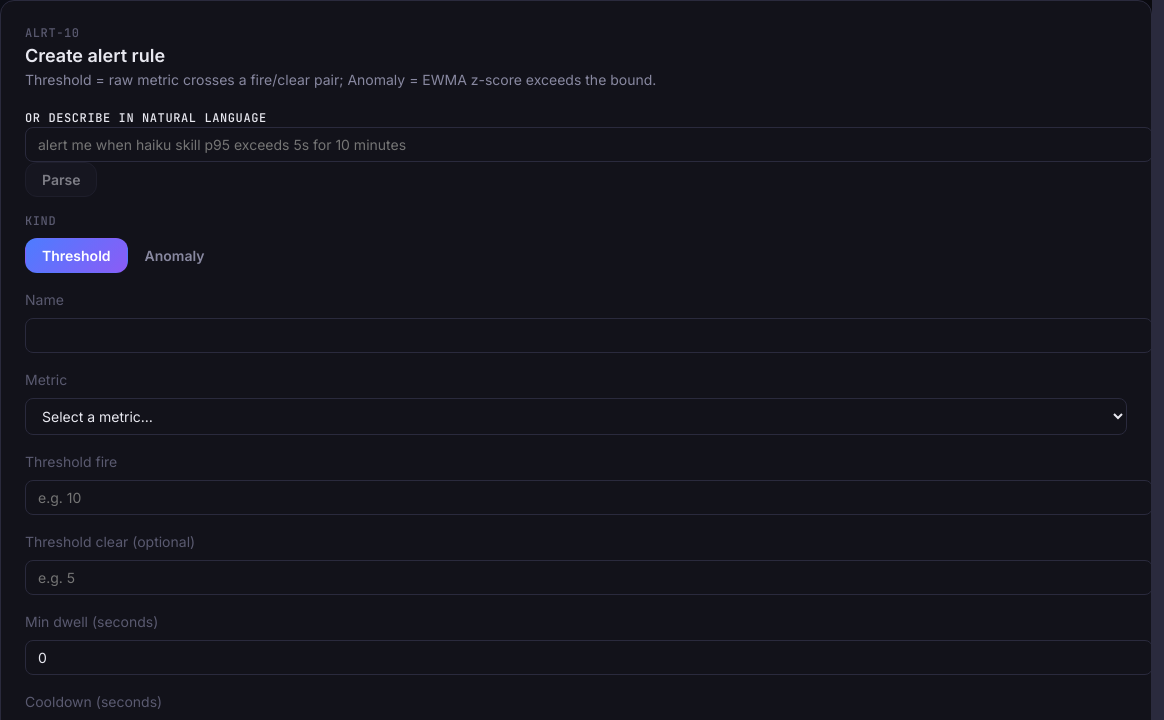
AlertRuleForm — TDBT-03 (Phase 27 Plan 27-08): AlertNlInput 503 retry UX › TDBT-03: Retry button is disabled while m.isPending (DoS guard)
Type "alert me when cost is too high" into the field labelled "Or describe in natural language" at coordinates (588, 144), box left=25, top=127, right=1152, bottom=162
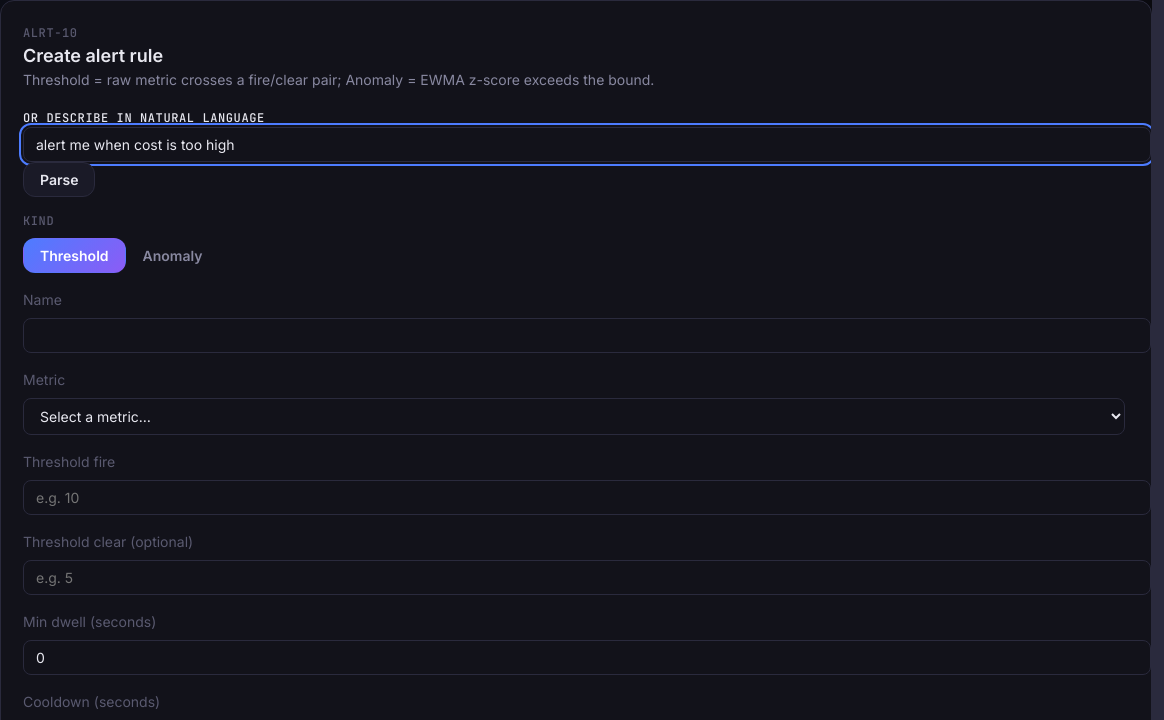
Click the button "Parse" at coordinates (59, 179), box left=23, top=162, right=96, bottom=197
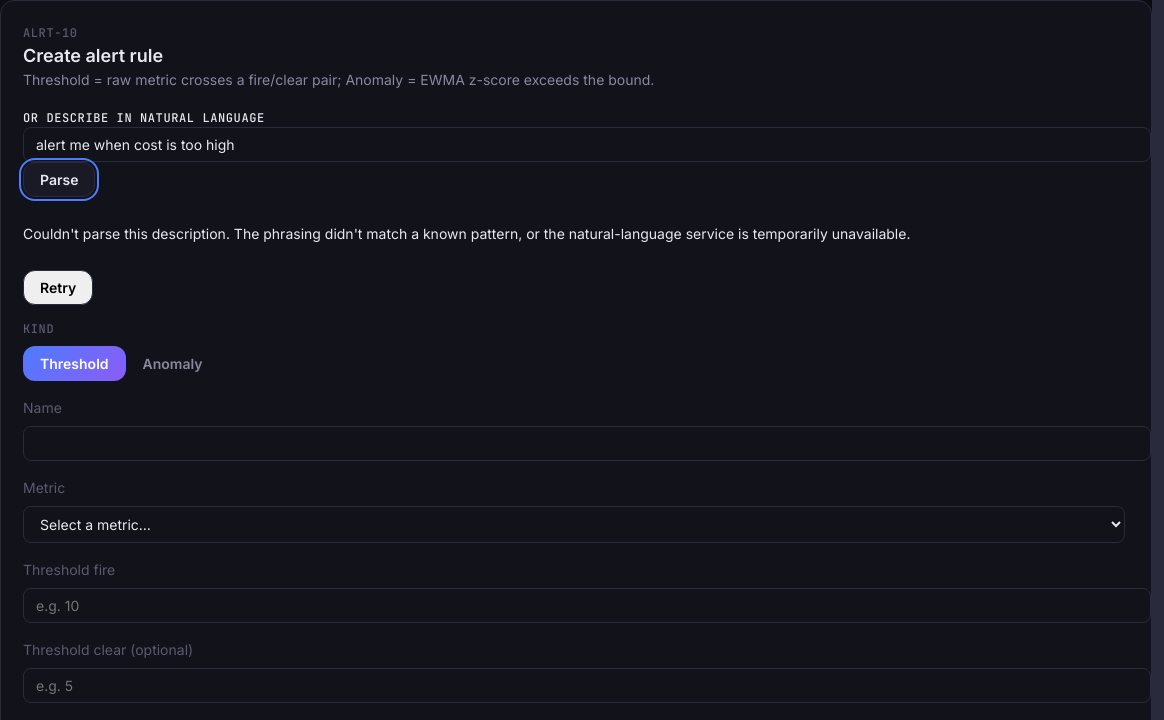
Expected: the button with test id "alert-nl-retry" is enabled
Expected: the button with test id "alert-nl-retry" reads "Retry"
# Click Retry — second call is held open, m.isPending flips to true.
Click the button with test id "alert-nl-retry" at coordinates (58, 287), box left=23, top=270, right=93, bottom=305
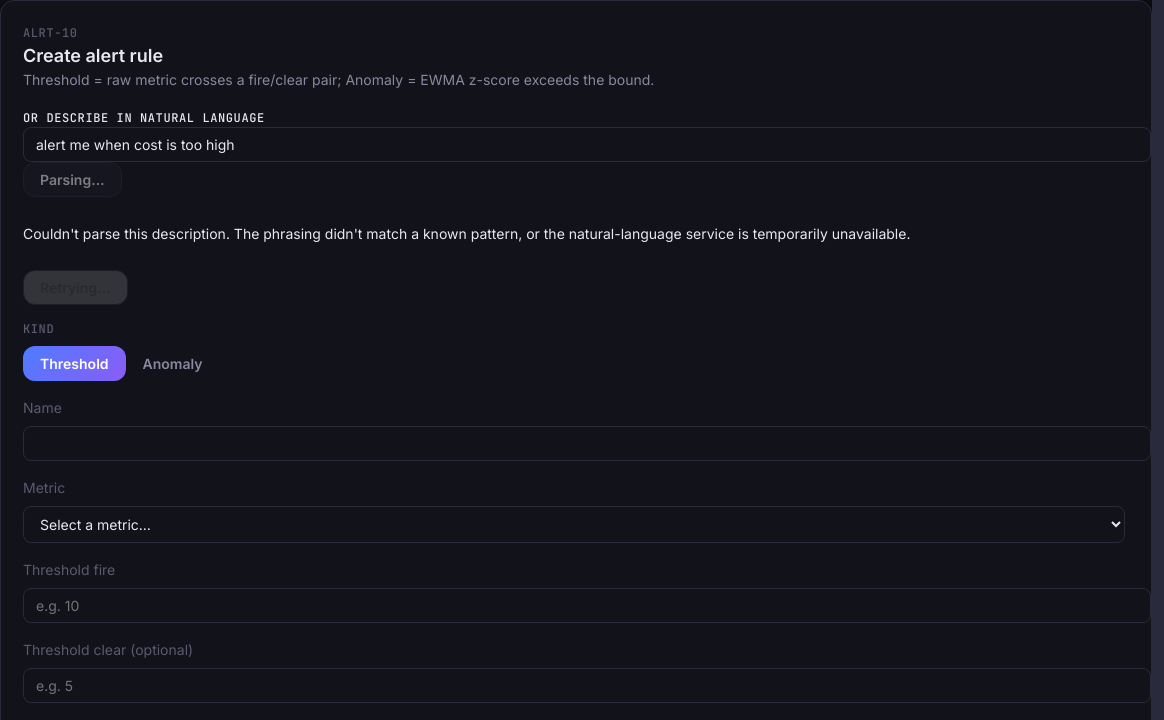
Expected: the button with test id "alert-nl-retry" is disabled, left=23, top=270, right=128, bottom=305
Expected: the button with test id "alert-nl-retry" shows "Retrying", left=23, top=270, right=128, bottom=305
